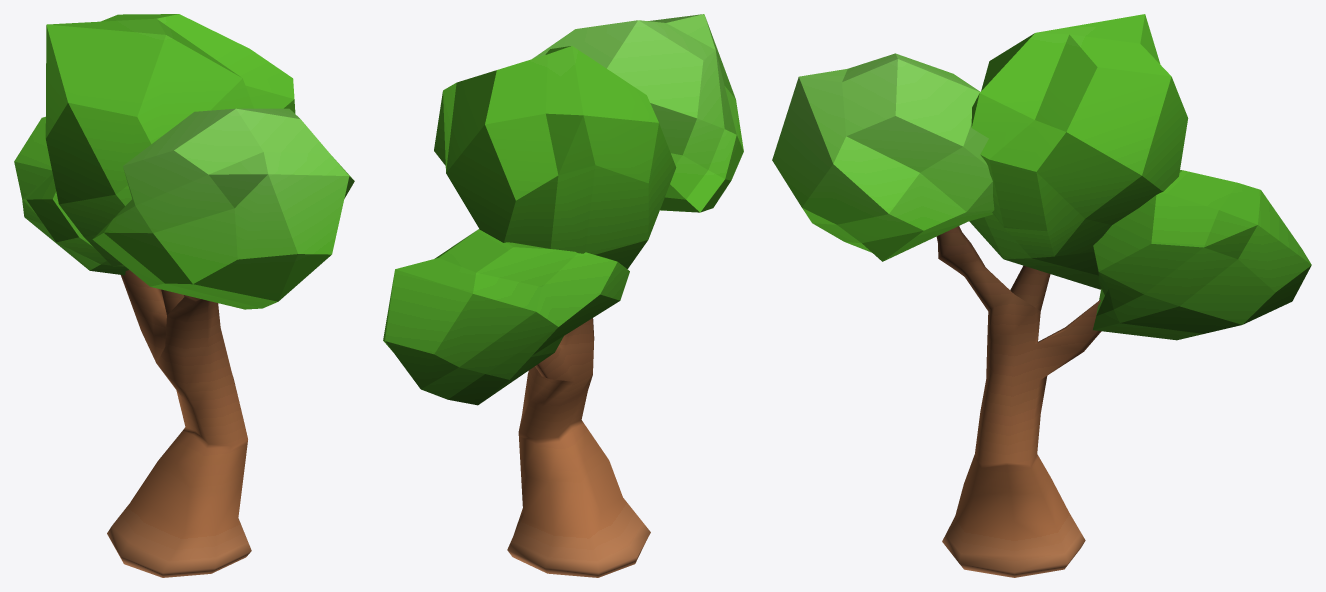
The model's file is SM_Tree.fbx.
3 views of the same model, side by side, from view 1: azimuth 30°, elevation 25°; view 2: azimuth 150°, elevation 25°; view 3: azimuth 270°, elevation 25° (orthographic).
Visible parts, largest first — view 1: SM_Tree; view 2: SM_Tree; view 3: SM_Tree.
Boxes of the visible parts, <box> form: SM_Tree: <box>14,14,354,577</box>; SM_Tree: <box>383,14,743,577</box>; SM_Tree: <box>772,14,1311,577</box>.
Bounding box in the file's own units: 19.35 × 40.44 × 37.44.
